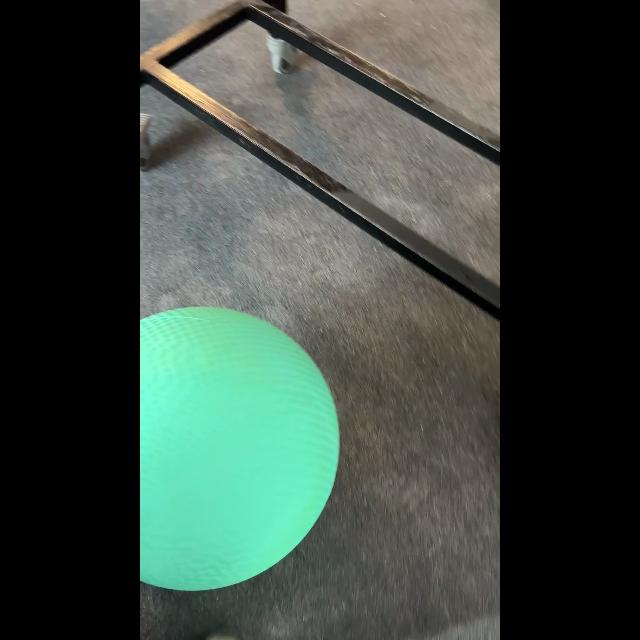ALGAE: (140, 305, 340, 591)
